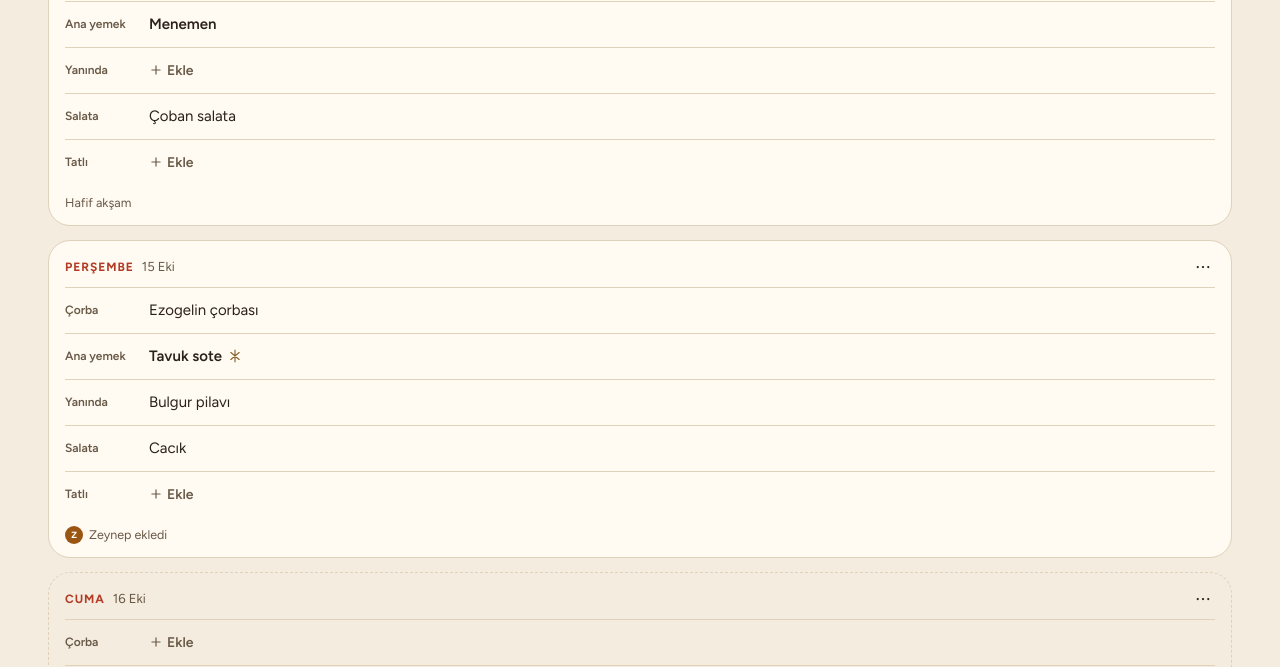
Test: Hafta (mobile list) › removes a planned dish and marks a day eaten out
The width and height of the screenshot is (1280, 667).
(page scrolled)
Click the button "Tavuk sote" at (186, 356), box [149, 334, 1215, 378]
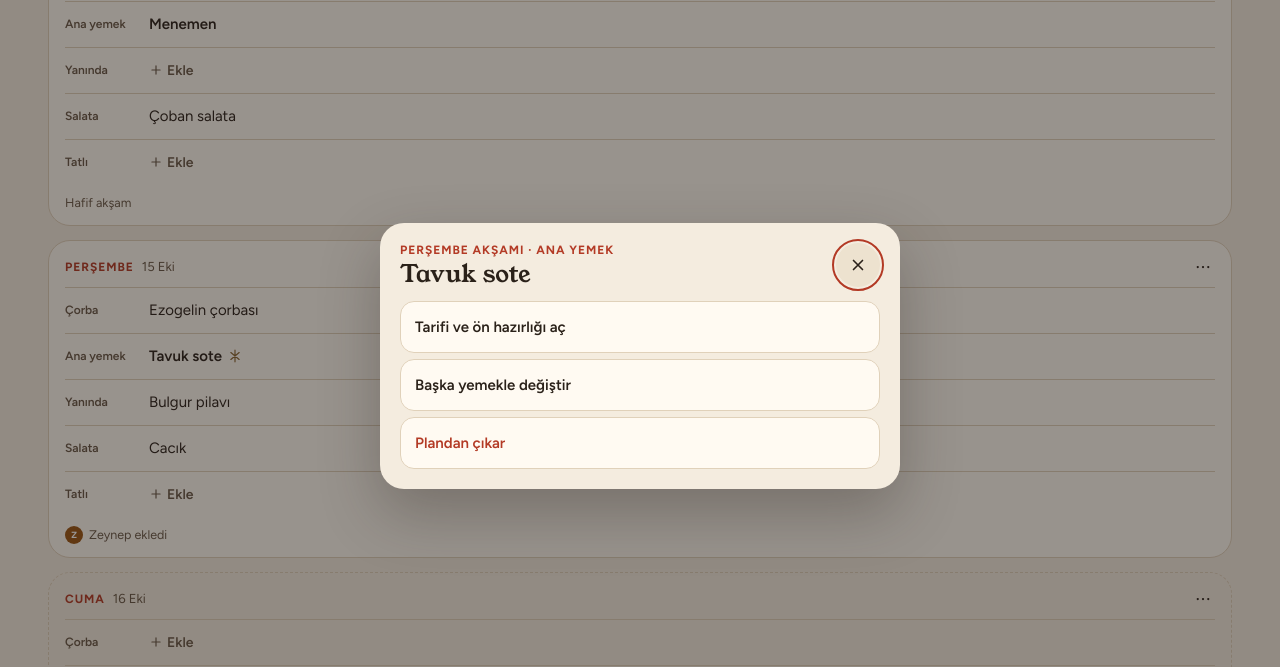
Click the button "Plandan çıkar" at (460, 443), box [400, 417, 880, 469]
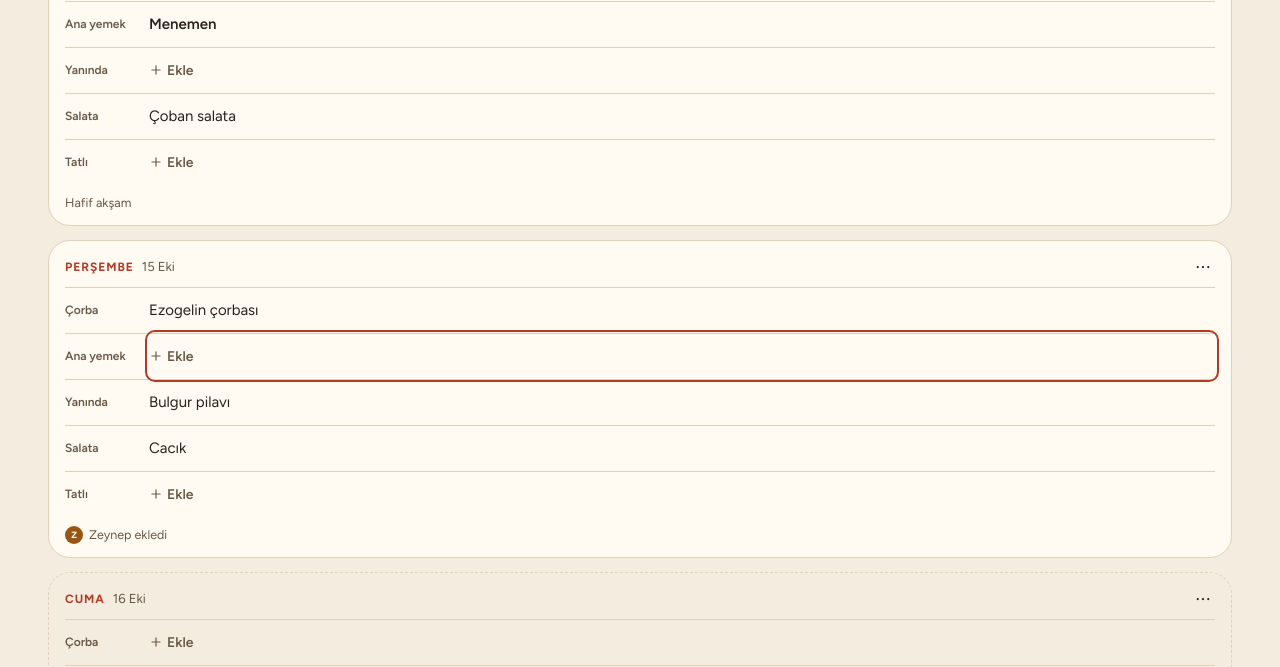
expect the element "Perşembe" no longer shows "Tavuk sote": met, box [48, 240, 1232, 558]
Click the button named "Perşembe günü seçenekleri" at (1203, 267), box [1181, 245, 1225, 289]
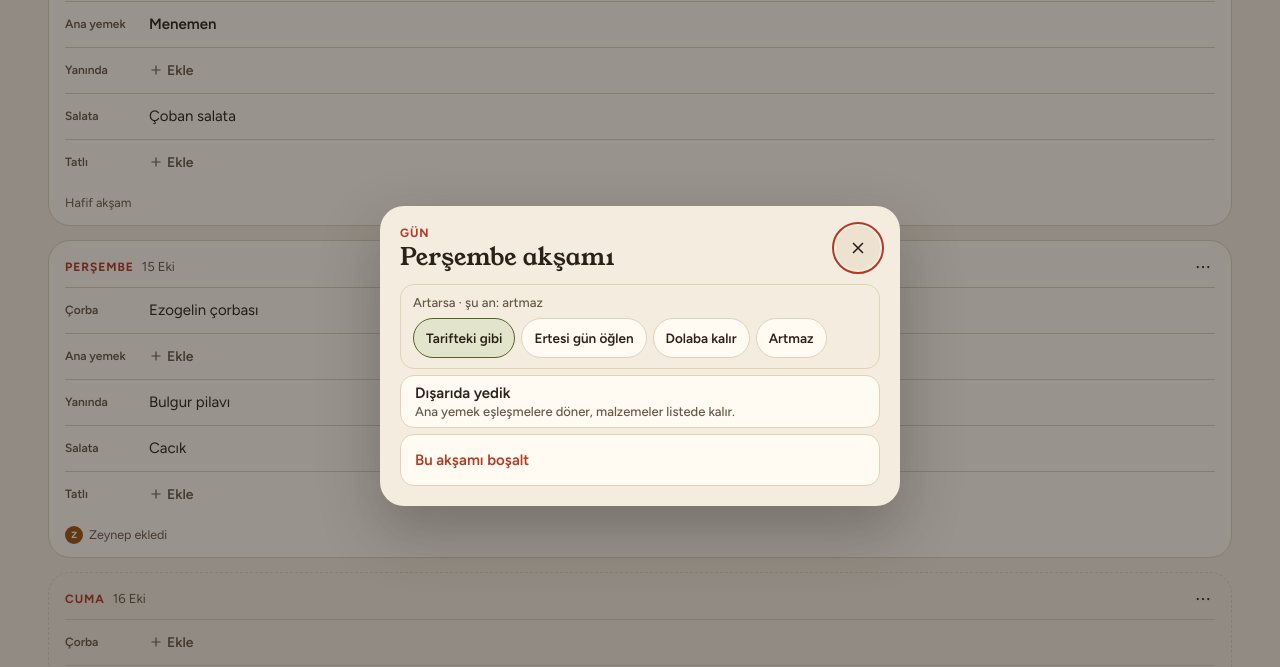
Click the button "Dışarıda yedik" at (640, 401), box [400, 375, 880, 428]
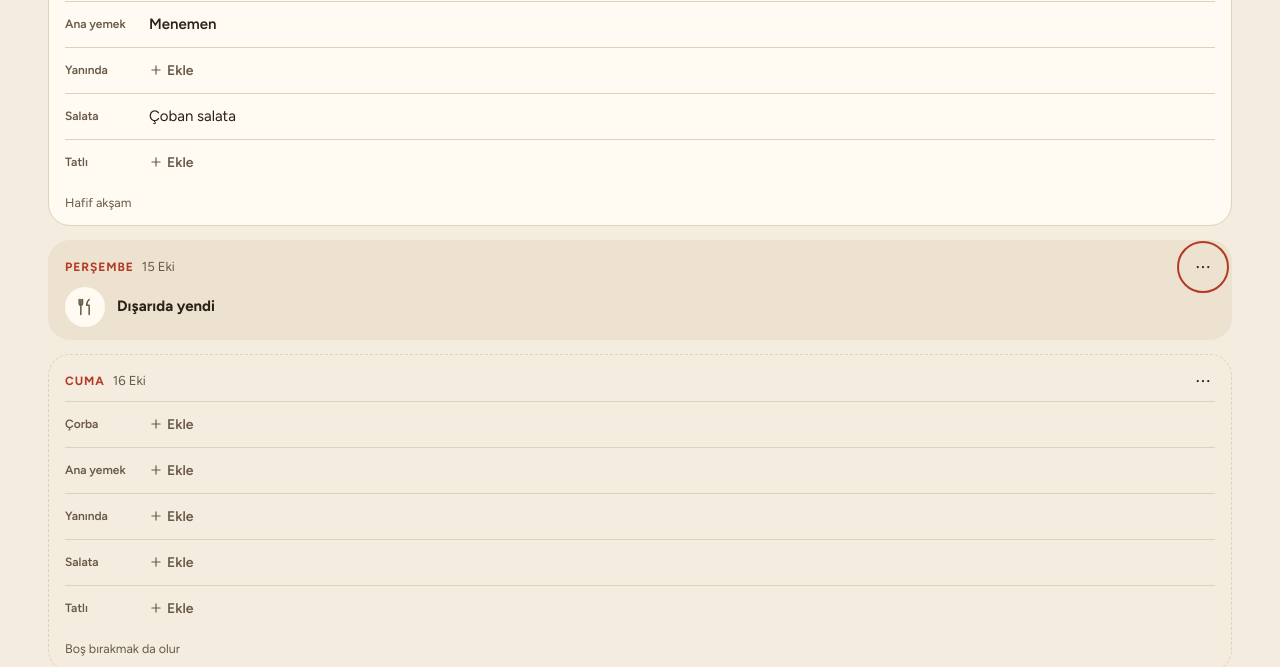
expect the element "Perşembe 15 Eki Dışarıda yendi" is shown: met, box [48, 240, 1232, 340]
